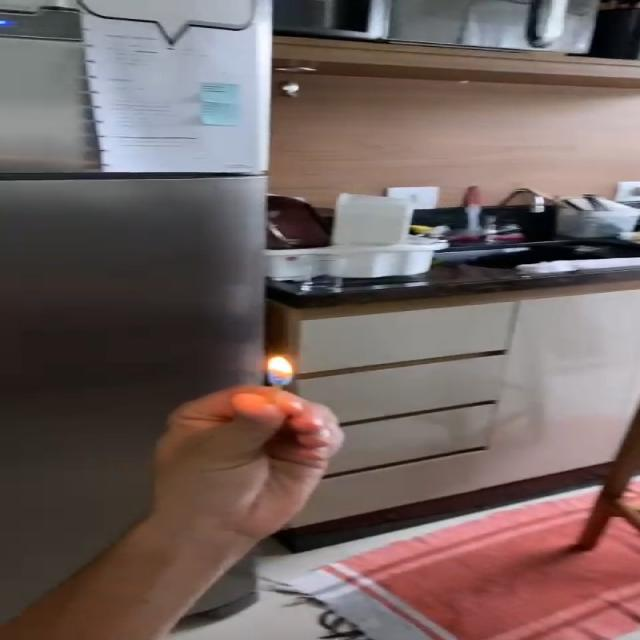fogo-ypXI: (266, 355, 294, 385)
